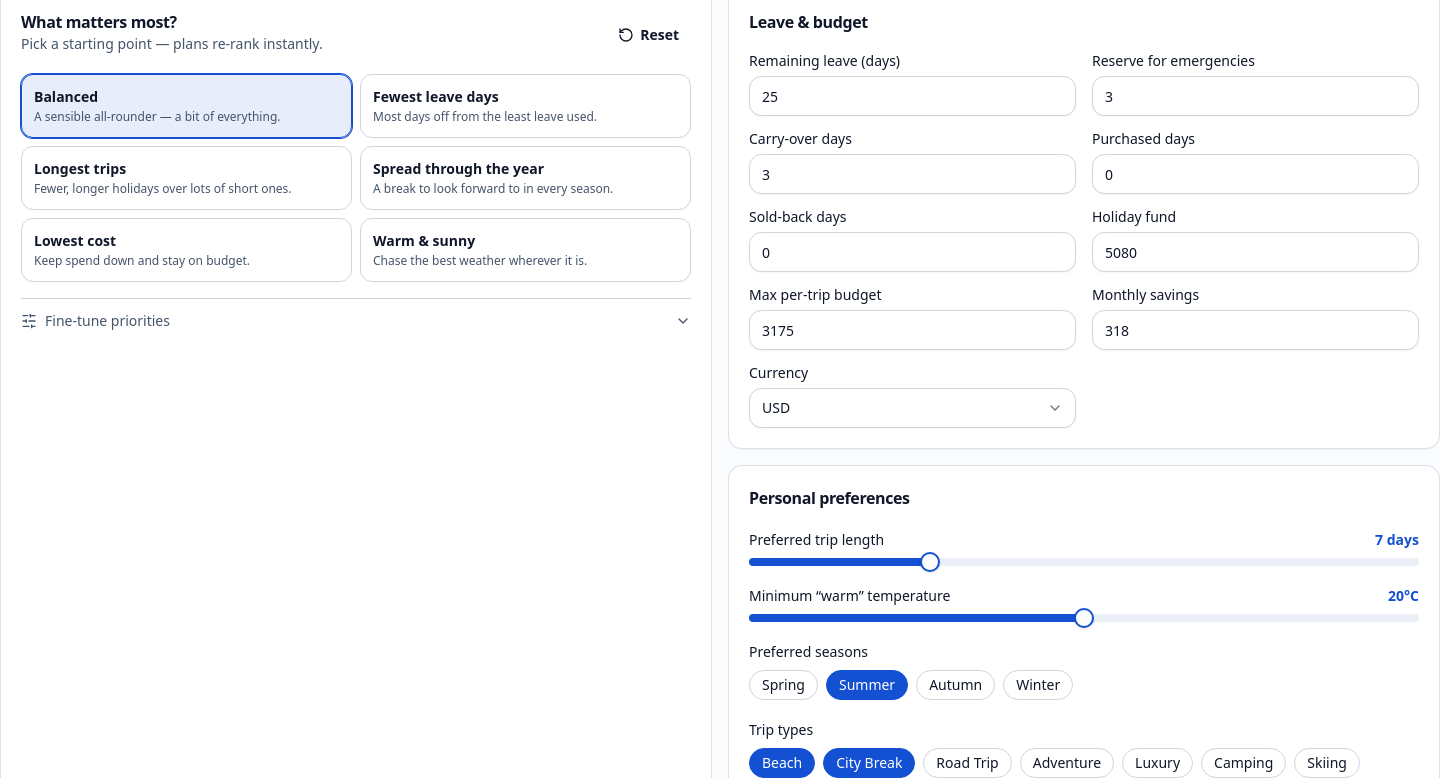
Test: Priority presets › reveals the seven weight sliders when fine-tune is expanded
The image size is (1440, 778).
Click the button "Fine-tune priorities" at x=107, y=320, box [21,311,691,331]
(page scrolled)
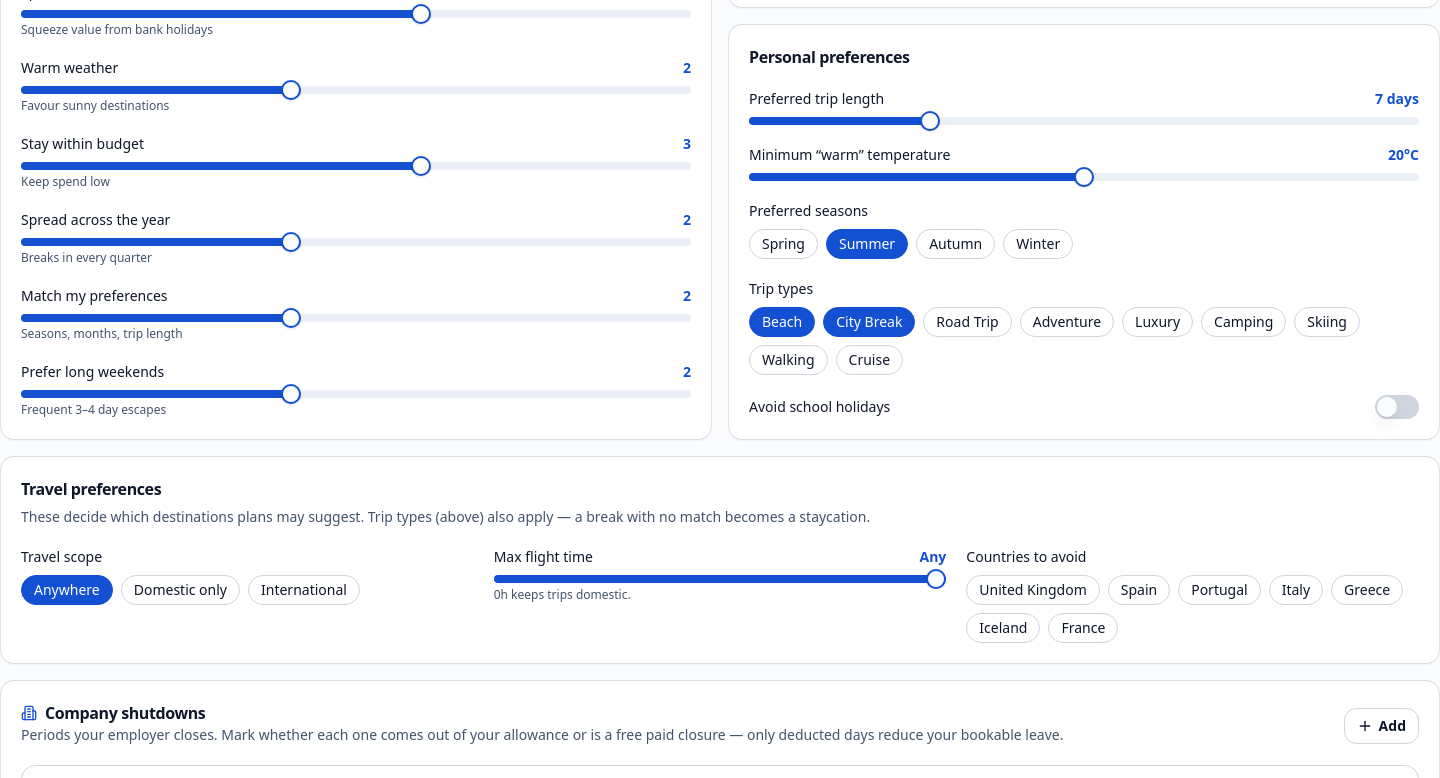
Expected: the element named "Spend the least leave" is shown, [21,10,691,18]
Expected: the element named "Warm weather" is shown, [21,86,691,94]
Expected: the element named "Stay within budget" is shown, [21,162,691,170]
